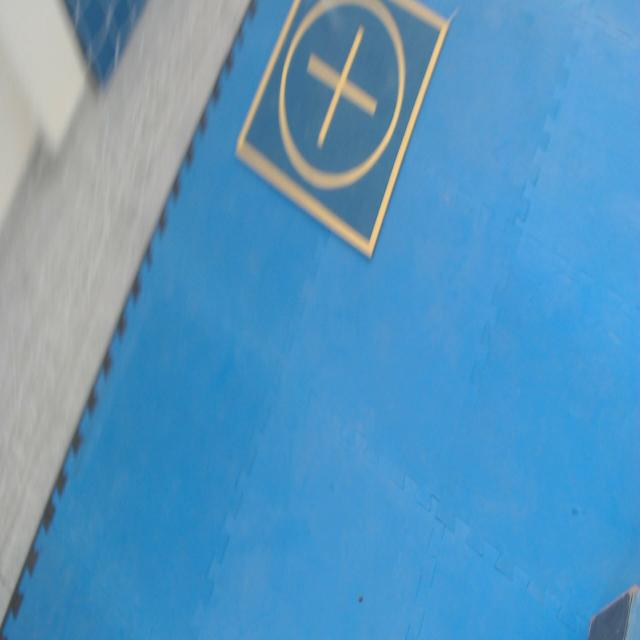base_pouso: (232, 0, 450, 261)
